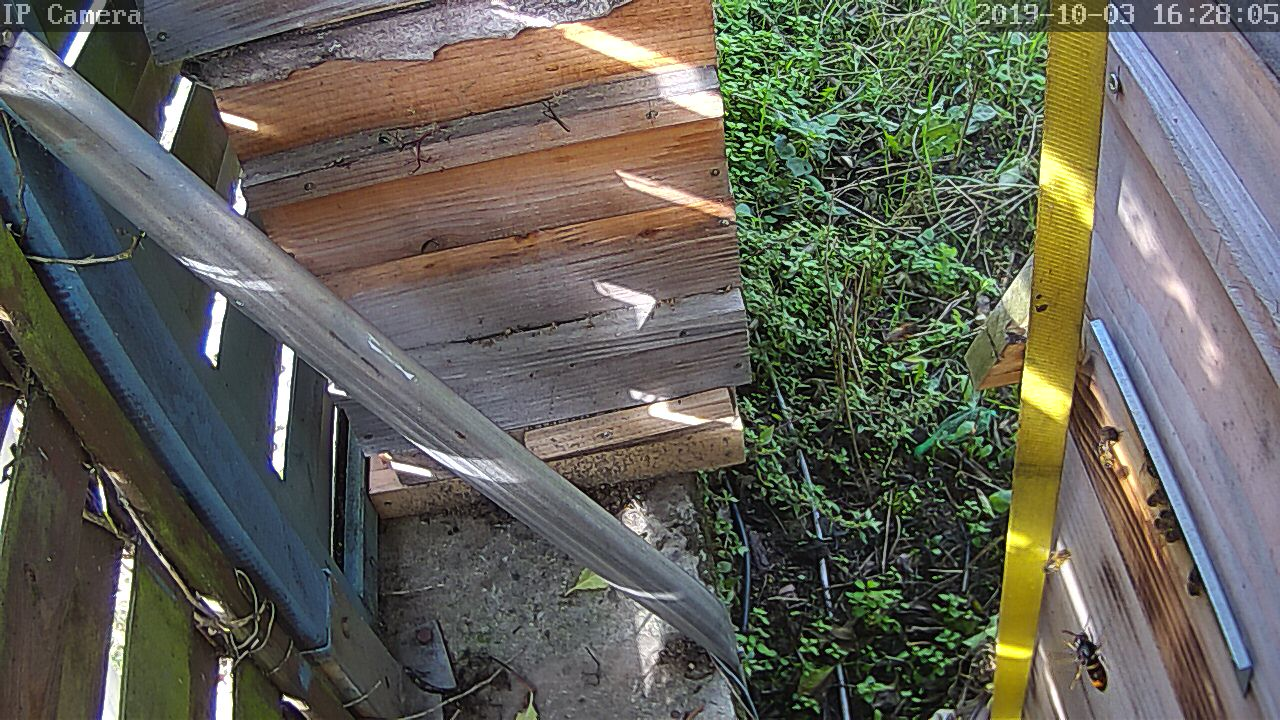bee: (1141, 494, 1185, 545), (1172, 558, 1211, 598), (1092, 427, 1125, 468), (1037, 543, 1072, 580)
hornet: (1054, 621, 1122, 699)
